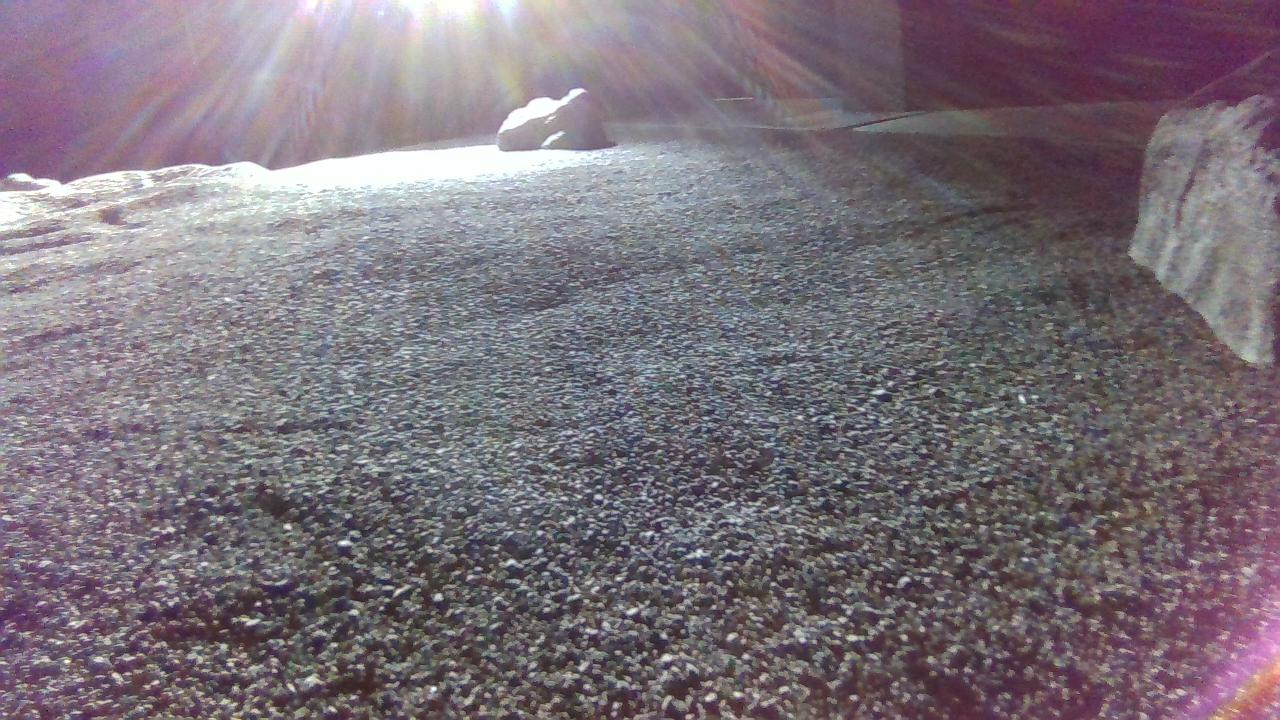rock: (1131, 47, 1280, 364), (496, 87, 611, 150)
